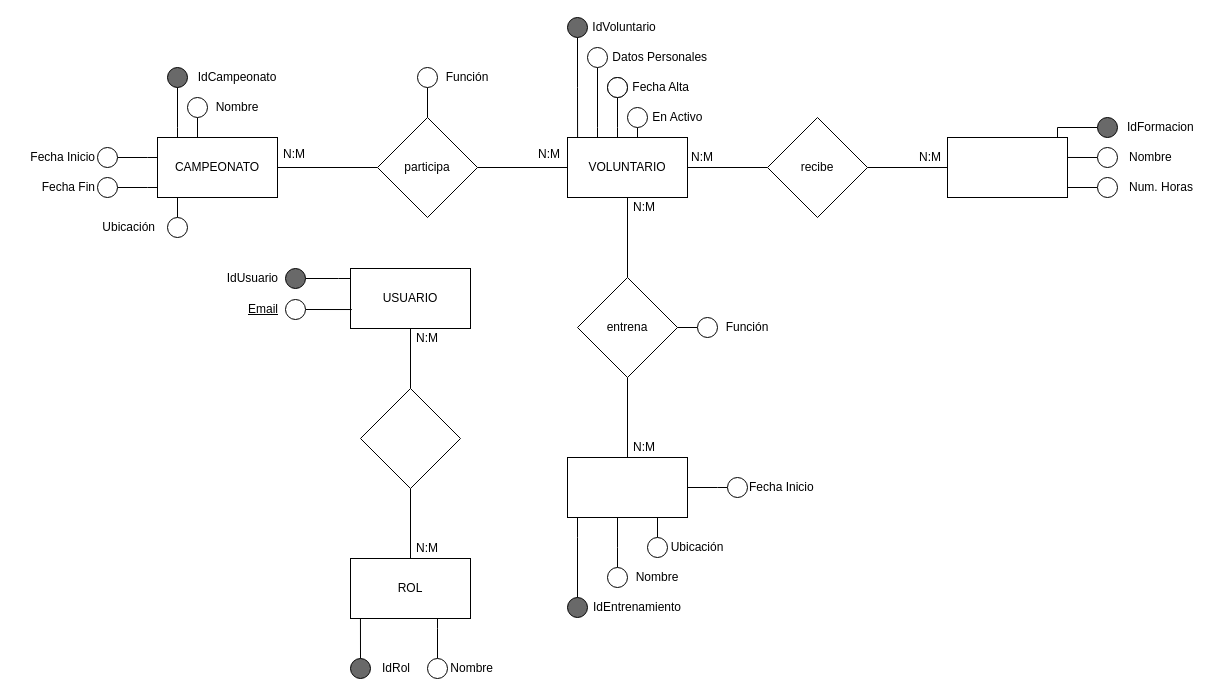
This 1217x696 diagram has some shape labels left out. Here are the shapes that lost their labels. From the top down, the centre of each, then its label:
the point at 1007,167: FORMACION
the point at 410,438: pertenece
the point at 627,487: ENTRENAMIENTO
